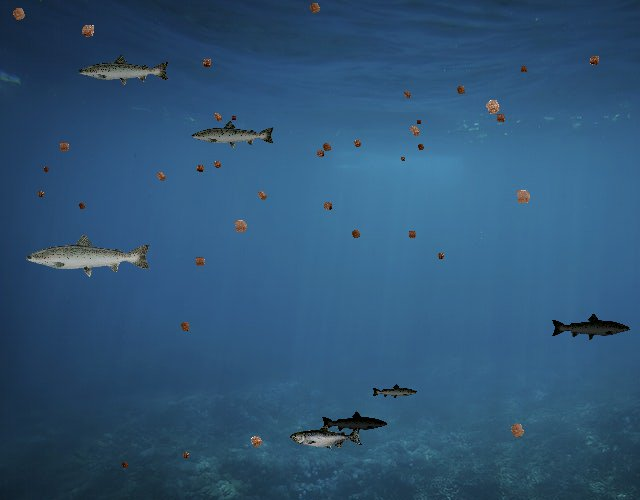Fish: (24, 232, 153, 278), (77, 53, 171, 87), (190, 119, 276, 150), (551, 313, 632, 342), (291, 424, 364, 451), (320, 410, 388, 434), (372, 383, 419, 400)
Pellet: (244, 429, 269, 454), (451, 81, 470, 100), (349, 135, 366, 152), (178, 448, 193, 463), (433, 249, 448, 263), (118, 458, 132, 472), (34, 187, 48, 201)
